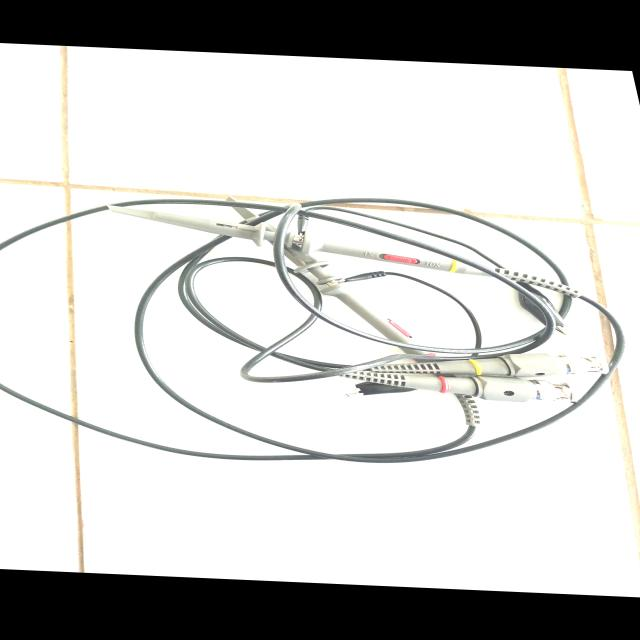CRO Probes: (0, 164, 640, 492)
